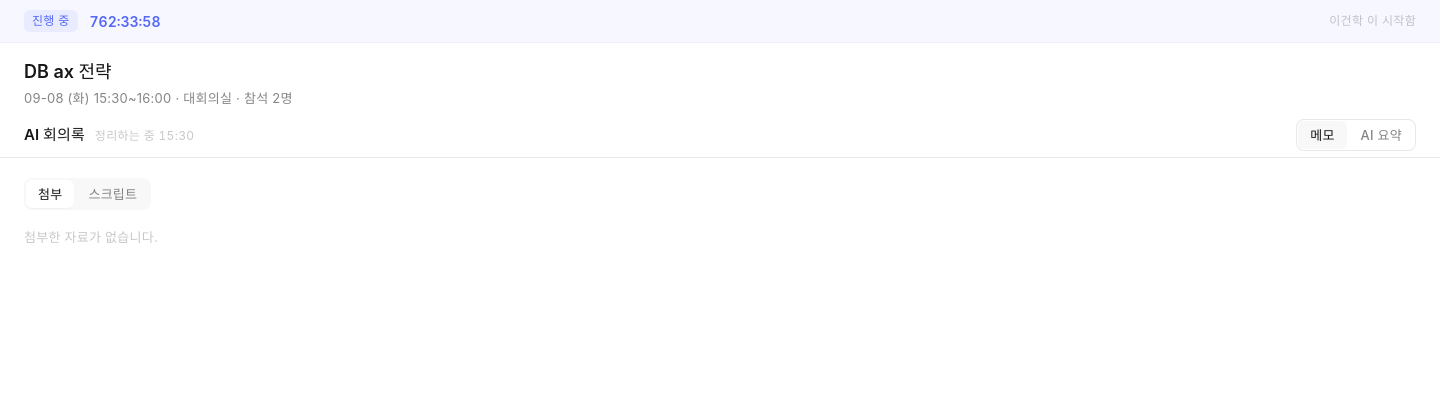
it: SCR-106 「진행 중」 — 회의 스트림 › 배치 전에 들어온 참여자는 상세의 잠정 후보로 선다 — 메모 탭에는 없다 (D46)
Expected: the heading "DB ax 전략" is shown, [24,59,112,85]
Click the tab "AI 요약".
click(1381, 135)  # box [1349,121,1414,149]
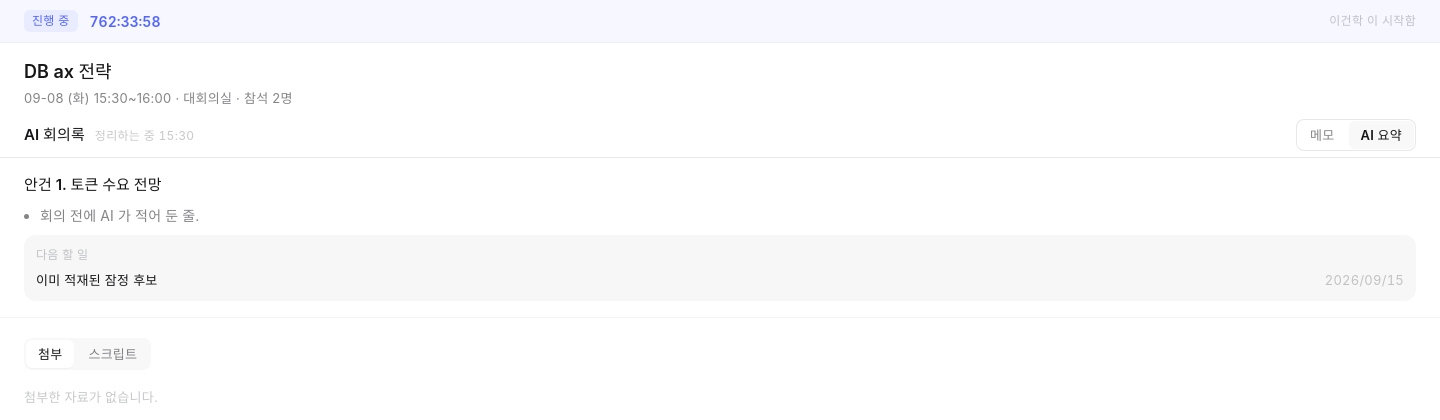
Expected: the text "이미 적재된 잠정 후보" is shown, [36,272,158,288]
Note: 메모 탭은 회의 중에 오간 말만 낸다 — 후속 업무 자리 자체가 없다
Click the tab "메모".
click(1322, 135)  # box [1298,121,1346,149]
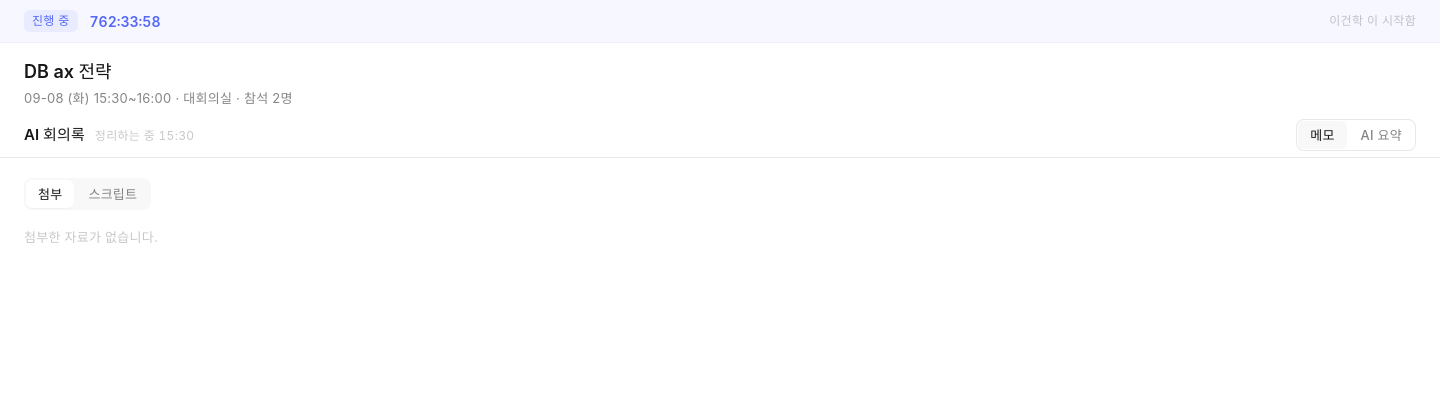
Expected: the text "이미 적재된 잠정 후보" is gone
Expected: the text "다음 할 일" is gone
